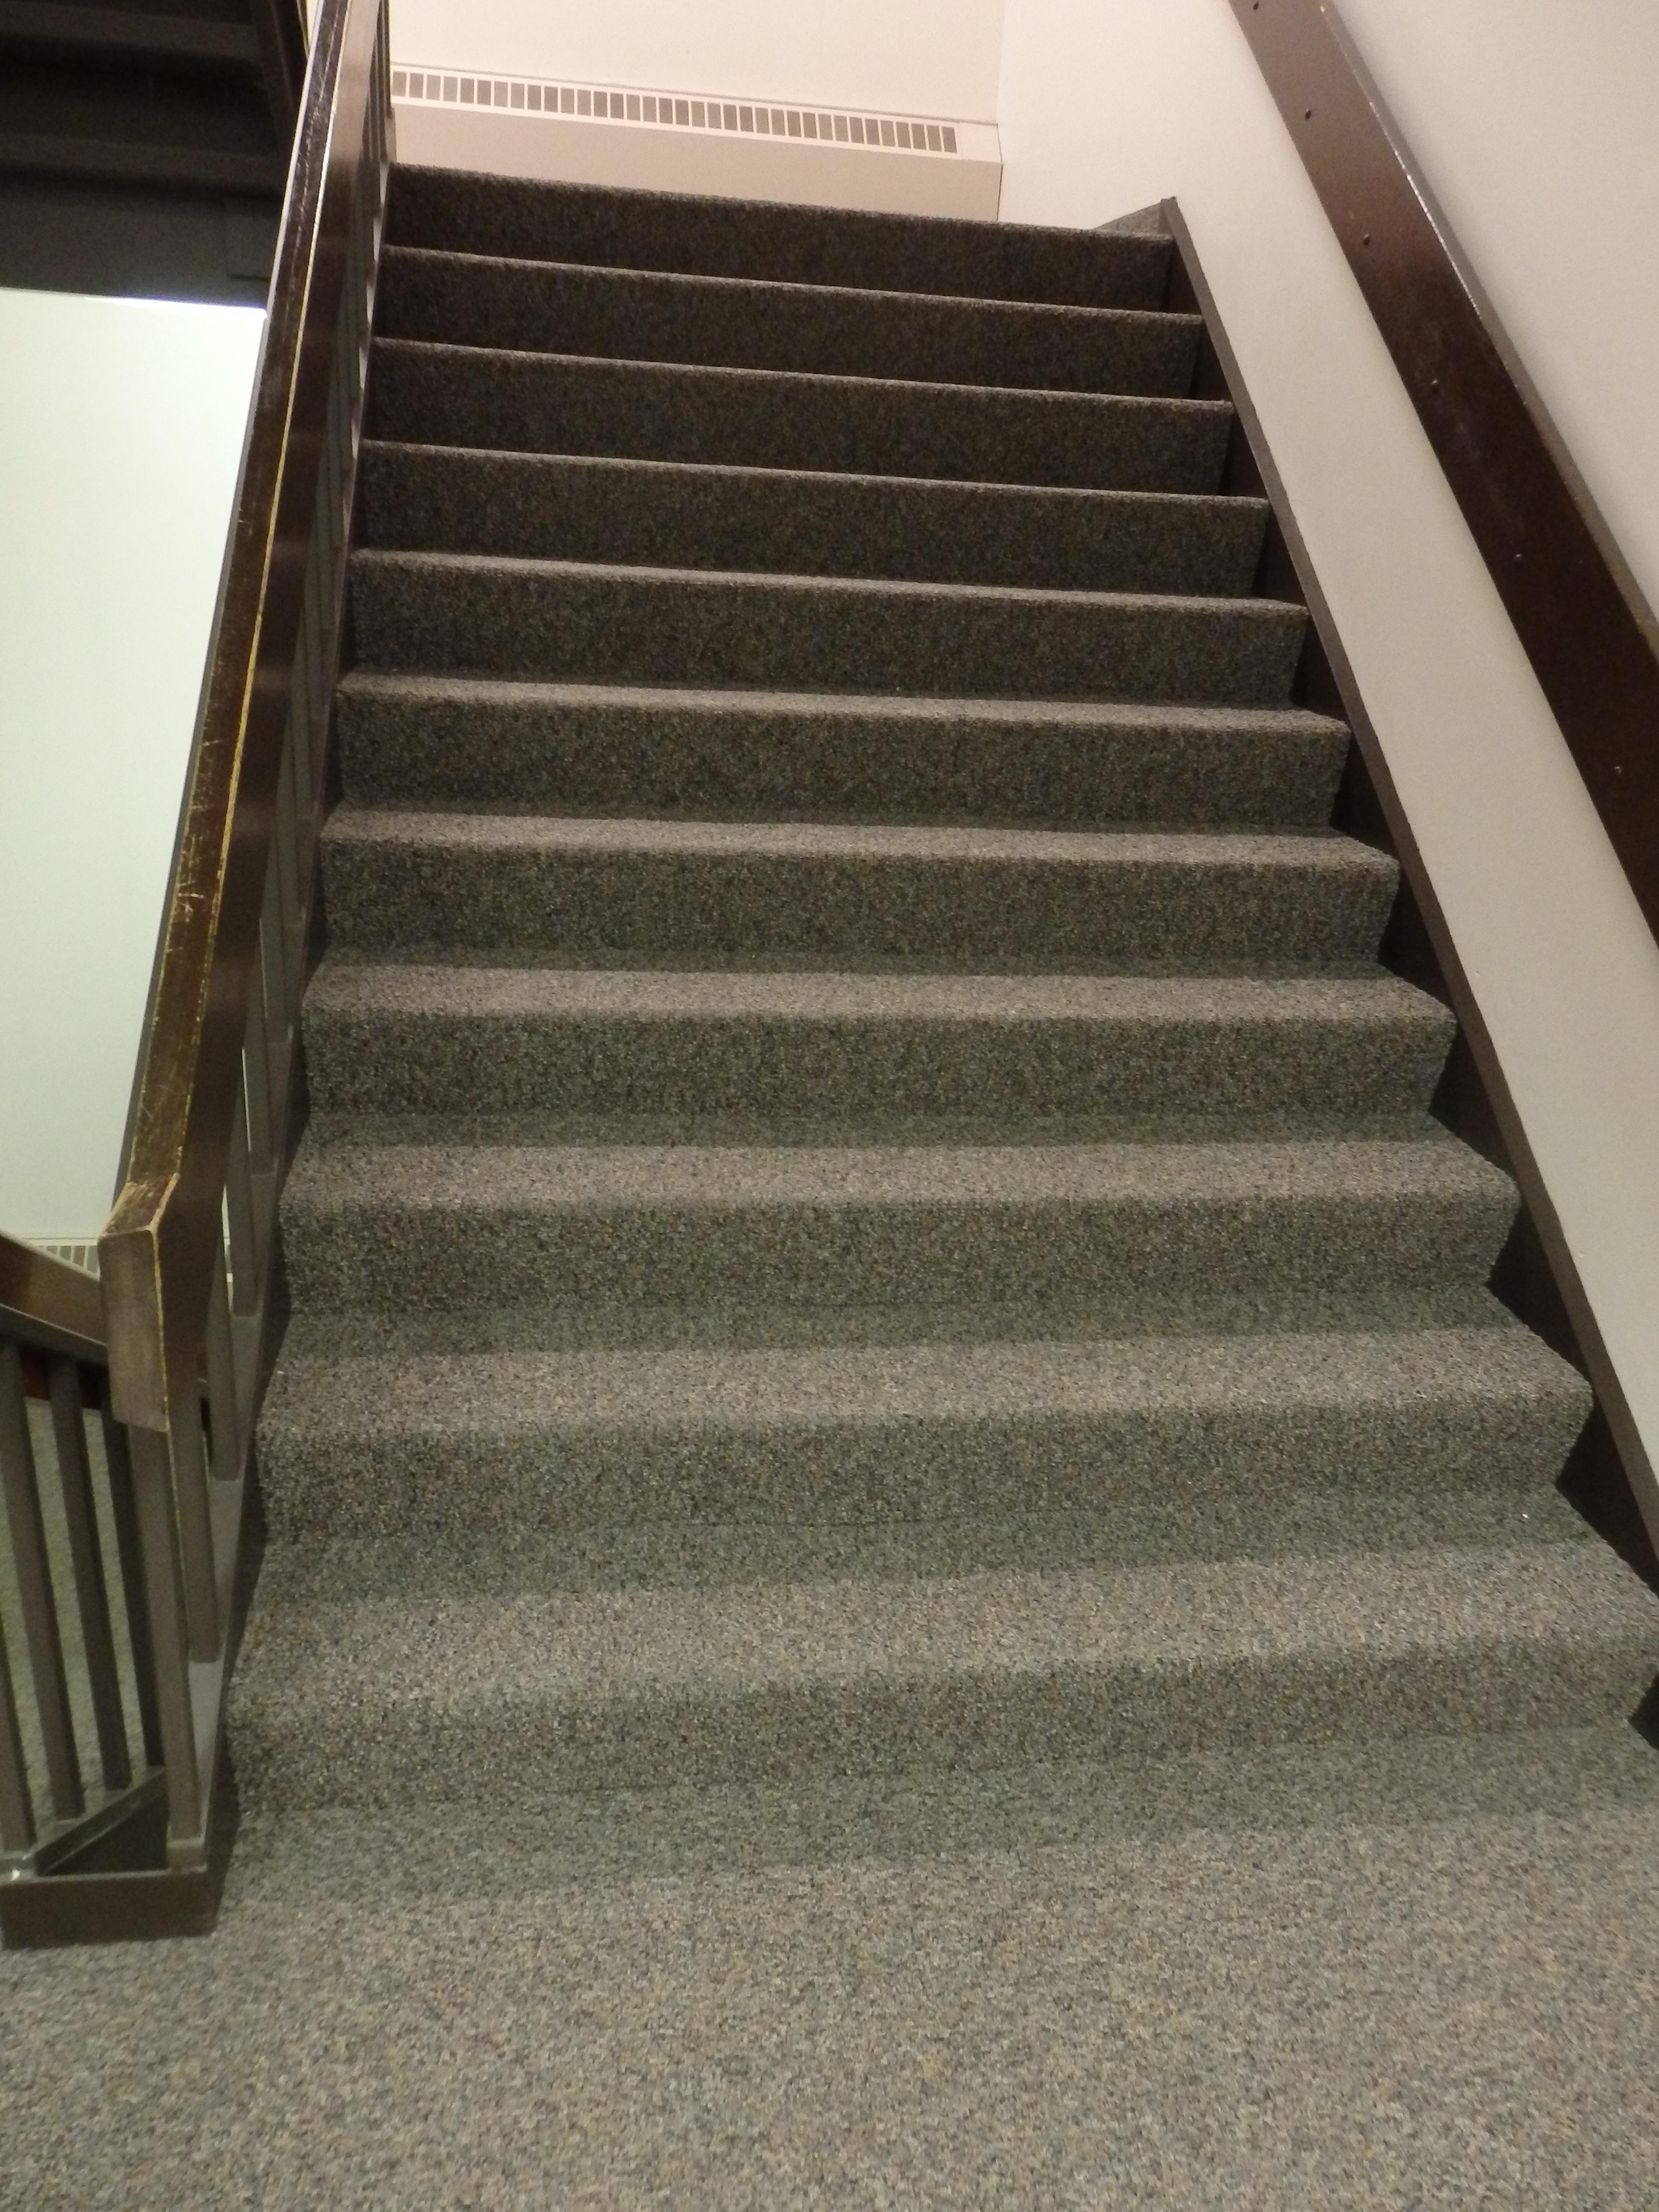stairs_up: (308, 108, 1497, 1820)
